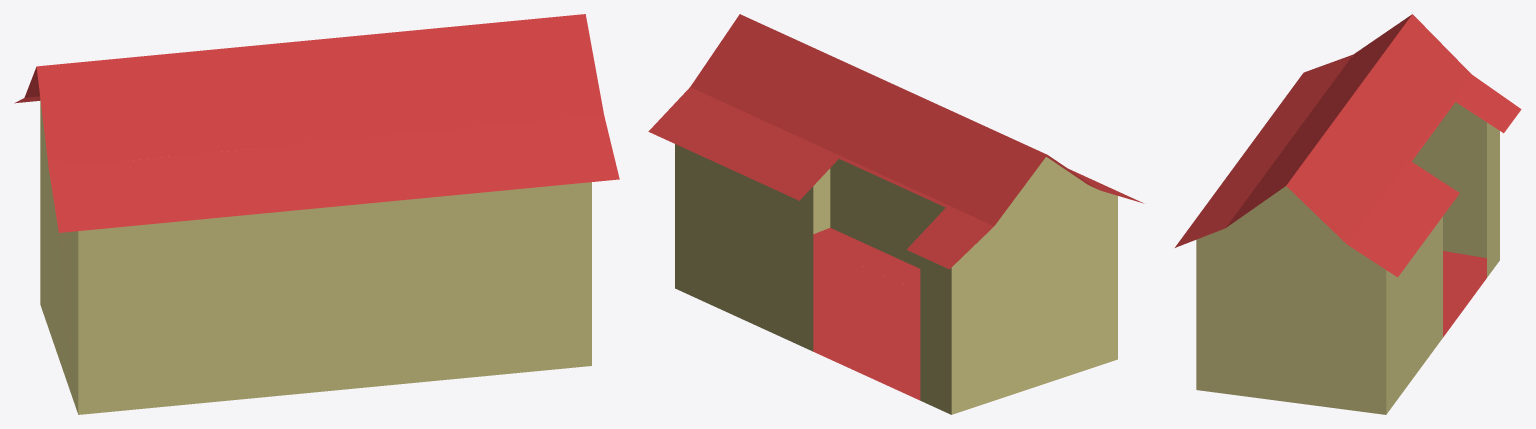
3 renders of one model, left to right at view 1: azimuth 30°, elevation 25°; view 2: azimuth 150°, elevation 25°; view 3: azimuth 270°, elevation 25°, orthographic. The views are drawn at different scales.
Size of the model in its own units: 27.47 by 19.67 by 13.98.
